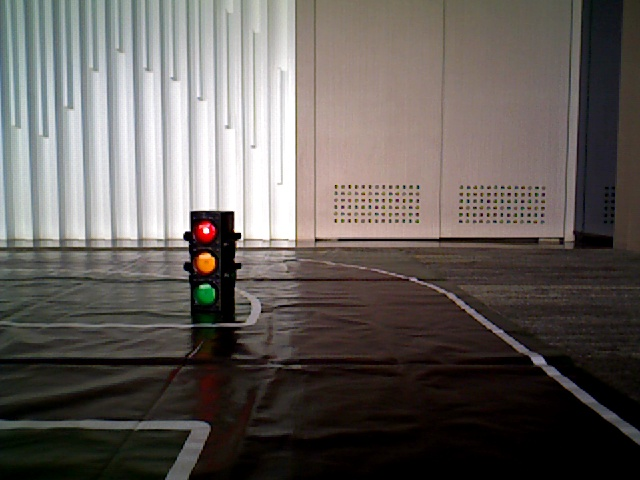red: (192, 215, 227, 312)
